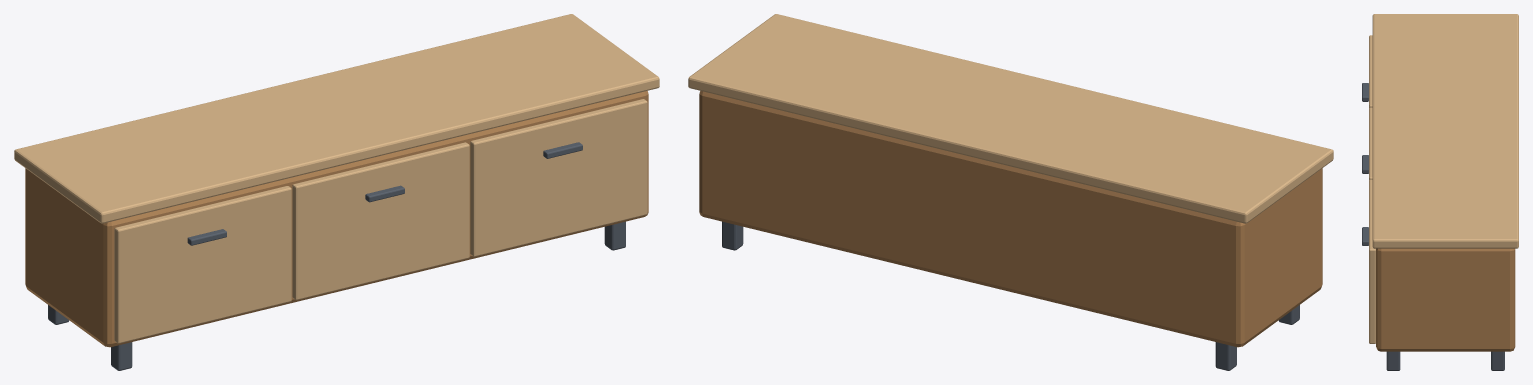
File: tv_unit.glb
3 views of the same model, side by side, from view 1: azimuth 30°, elevation 25°; view 2: azimuth 150°, elevation 25°; view 3: azimuth 270°, elevation 25° (orthographic). The views are drawn at different scales.
Parts seen in each view (by area): view 1: TV_Top, TV_Door, TV_Door.002, TV_Door.001, TV_Body, TV_Foot, TV_Foot.002; view 2: TV_Body, TV_Top, TV_Foot.001, TV_Foot.003; view 3: TV_Top, TV_Body, TV_Door.002, TV_Foot.002, TV_Door, TV_Door.001, TV_Foot.003.
Part boxes in pixels (bbox=[...]): TV_Top: bbox=[14, 14, 659, 223]; TV_Door: bbox=[114, 186, 291, 343]; TV_Door.002: bbox=[470, 99, 647, 256]; TV_Door.001: bbox=[292, 142, 469, 300]; TV_Body: bbox=[25, 91, 648, 347]; TV_Foot: bbox=[111, 342, 132, 370]; TV_Foot.002: bbox=[604, 221, 625, 250]; TV_Body: bbox=[699, 91, 1322, 347]; TV_Top: bbox=[688, 14, 1333, 223]; TV_Foot.001: bbox=[1215, 342, 1236, 370]; TV_Foot.003: bbox=[722, 221, 743, 250]; TV_Top: bbox=[1372, 14, 1518, 248]; TV_Body: bbox=[1376, 248, 1515, 351]; TV_Door.002: bbox=[1369, 179, 1375, 343]; TV_Foot.002: bbox=[1386, 351, 1400, 370]; TV_Door: bbox=[1369, 35, 1372, 108]; TV_Door.001: bbox=[1369, 107, 1372, 180]; TV_Foot.003: bbox=[1491, 351, 1504, 370].
Size of the model in its own units: 1.54 by 0.45 by 0.45.
